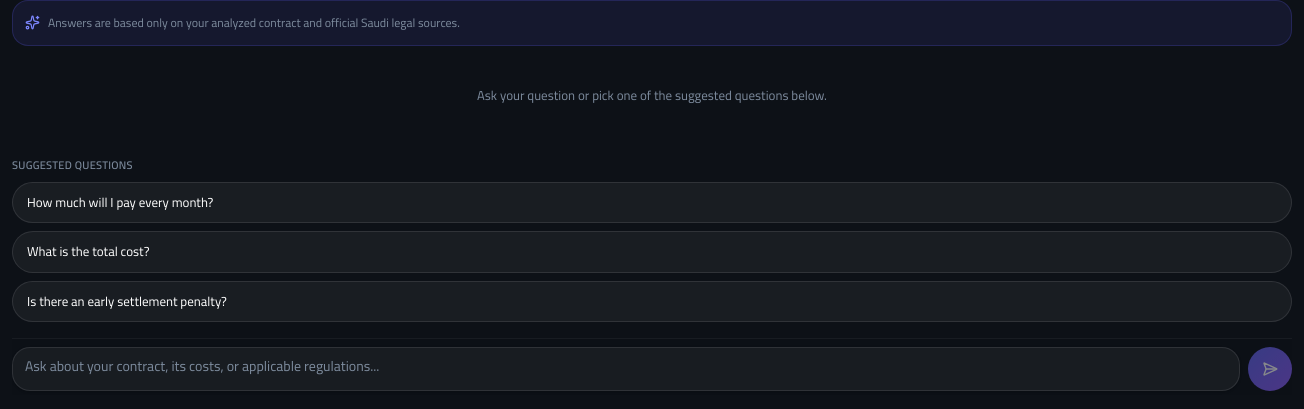
Test: ContractChat › sends a valid question and renders the assistant's answer
Type "What is RAG?" into the text box with test id "chat-input-textarea".
click(626, 369); type("What is RAG?")  # box [12,347,1240,391]
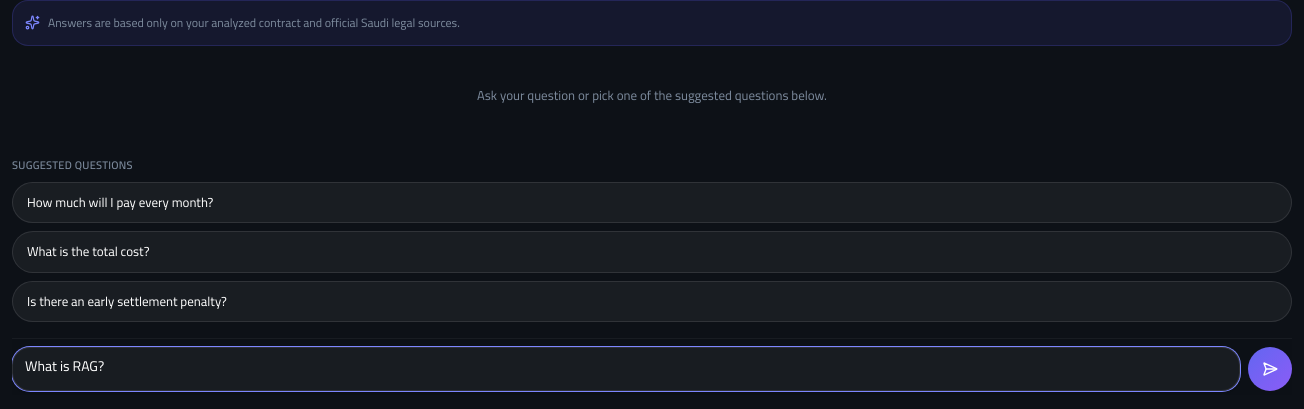
Click the button with test id "chat-send-button".
click(1270, 369)  # box [1248,347,1292,391]
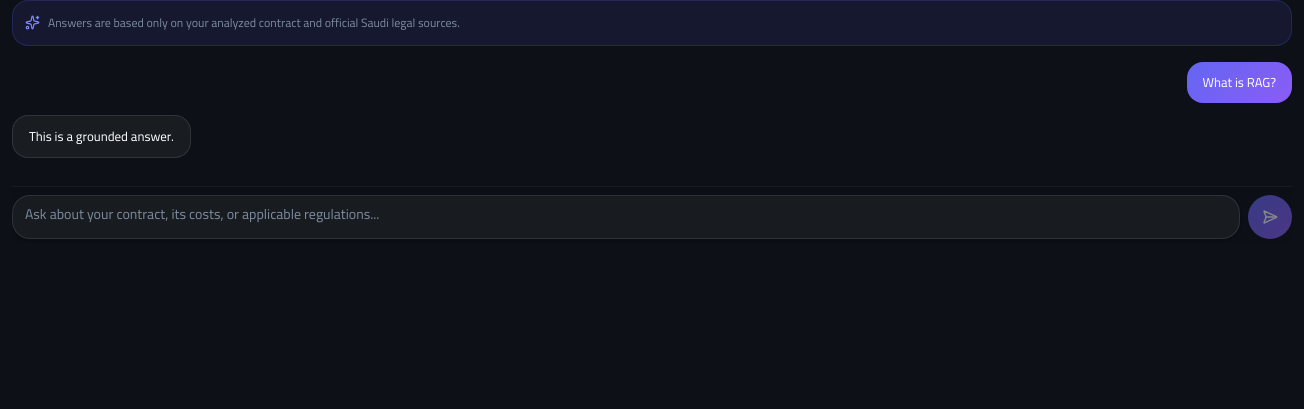
Expected: the text with test id "chat-message-user" reads "What is RAG?", [1202,70,1276,94]
Expected: the element with test id "chat-message-assistant" reads "This is a grounded answer.", [29,124,174,148]
